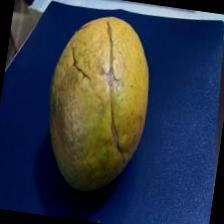Orange Rotten: (32, 5, 170, 206)
